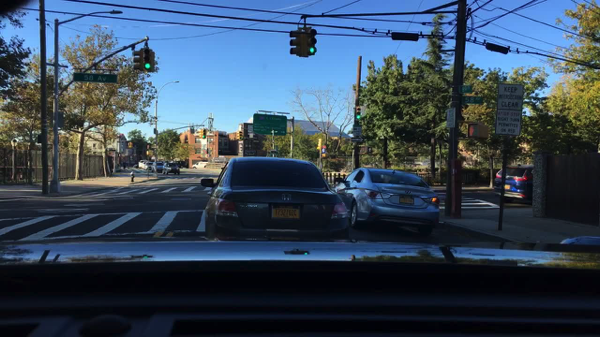car: (199, 157, 350, 241), (333, 168, 439, 238), (492, 163, 533, 204), (162, 162, 181, 176), (151, 162, 165, 173), (192, 162, 208, 169), (137, 159, 149, 168), (143, 161, 154, 170), (175, 160, 187, 168), (141, 161, 151, 169)
traffic light: (288, 29, 303, 57), (304, 29, 317, 58), (466, 122, 488, 138), (132, 50, 142, 72), (143, 49, 150, 71), (151, 52, 155, 73), (316, 138, 323, 150), (356, 106, 361, 122), (238, 131, 243, 141), (367, 146, 373, 154), (235, 132, 240, 141), (202, 128, 206, 139), (322, 154, 329, 160), (198, 129, 202, 139), (149, 150, 154, 156), (146, 151, 150, 155), (128, 142, 131, 147), (131, 143, 133, 148)
traffic sign: (253, 113, 286, 136), (493, 109, 520, 136), (497, 83, 522, 110), (74, 72, 118, 84), (464, 96, 483, 104), (446, 109, 454, 127), (353, 125, 362, 136), (350, 137, 363, 143), (460, 85, 471, 92), (151, 146, 160, 149), (190, 129, 195, 134), (271, 148, 277, 152), (322, 146, 326, 152), (153, 129, 156, 134)
